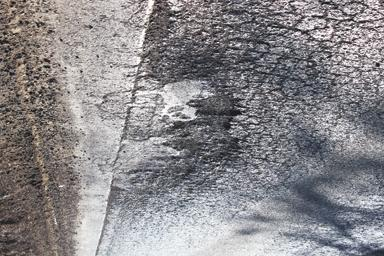pothole: (118, 61, 230, 207)
